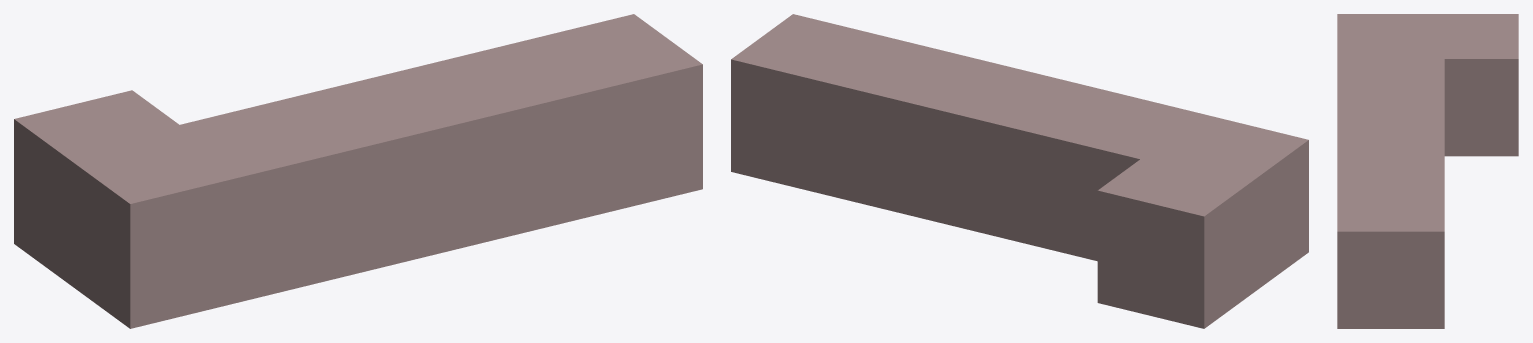
The model's file is Fregadero.fbx.
The picture shows the model from 3 angles, left to right: view 1: azimuth 30°, elevation 25°; view 2: azimuth 150°, elevation 25°; view 3: azimuth 270°, elevation 25°; orthographic projection. The views are drawn at different scales.
Parts seen in each view (by area): view 1: Fregadero; view 2: Fregadero; view 3: Fregadero.
Part boxes in pixels (bbox=[...]): Fregadero: bbox=[14, 14, 702, 328]; Fregadero: bbox=[731, 14, 1308, 328]; Fregadero: bbox=[1337, 14, 1518, 328].
Bounding box in the file's own units: 480 × 100 × 169.
